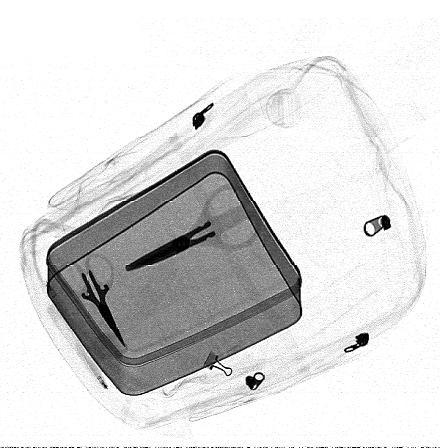Scissors: (122, 179, 263, 274), (62, 247, 129, 351)
